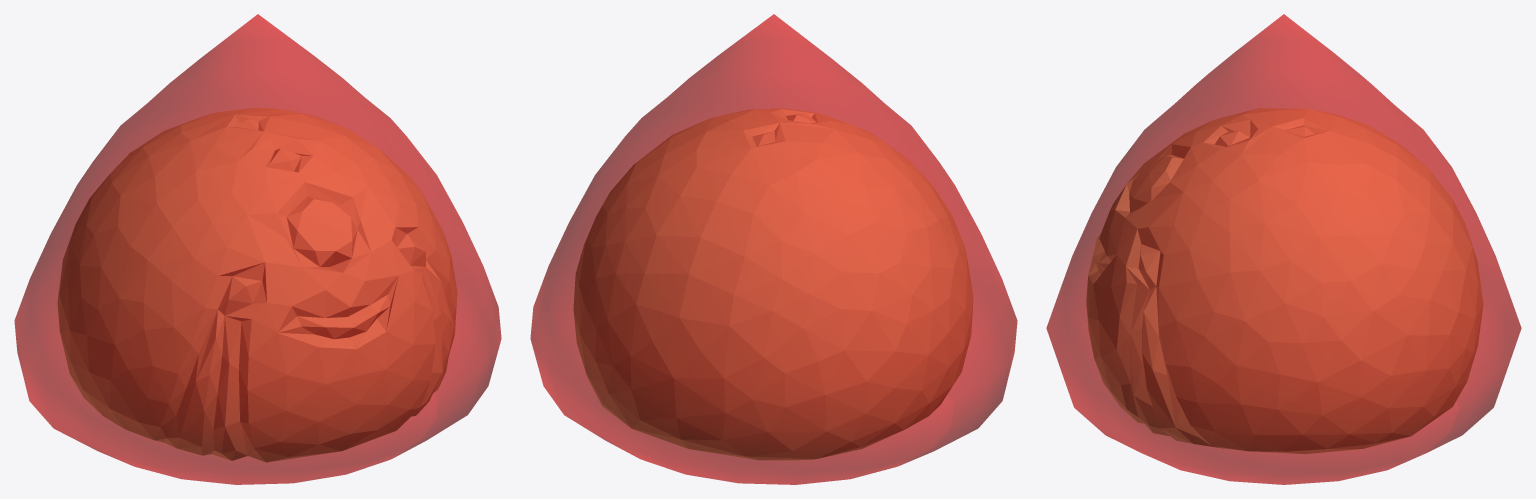
File: fire sprite cel test.fbx
The picture shows the model from 3 angles, left to right: view 1: azimuth 30°, elevation 25°; view 2: azimuth 150°, elevation 25°; view 3: azimuth 270°, elevation 25°; orthographic projection.
Visible parts, largest first — view 1: pSphere1, sprite_statue:Group44008; view 2: pSphere1, sprite_statue:Group44008; view 3: pSphere1, sprite_statue:Group44008.
Part boxes in pixels (box(x1,y1,x2,y2)): pSphere1: box(14, 14, 501, 484); sprite_statue:Group44008: box(57, 108, 457, 462); pSphere1: box(530, 14, 1017, 484); sprite_statue:Group44008: box(573, 108, 973, 460); pSphere1: box(1046, 14, 1521, 484); sprite_statue:Group44008: box(1086, 108, 1483, 454).
Size of the model in its own units: 22.3 by 19.78 by 21.52.
